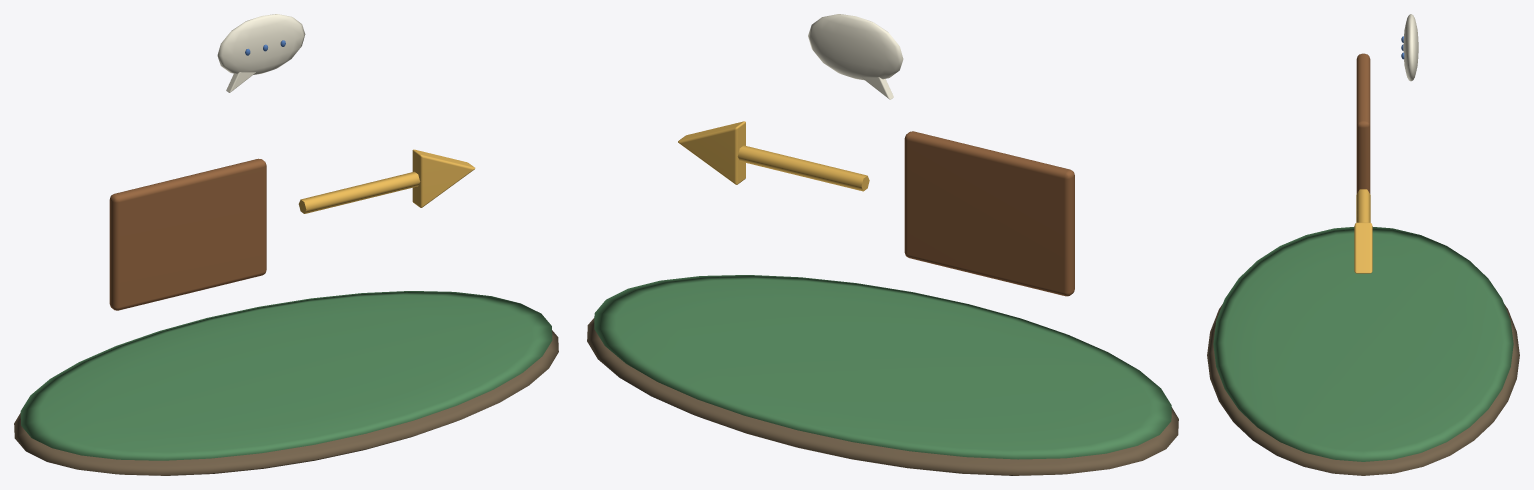
The model's file is complete-third-display-reaching.glb.
3 renders of one model, left to right at view 1: azimuth 30°, elevation 25°; view 2: azimuth 150°, elevation 25°; view 3: azimuth 270°, elevation 25°, orthographic. The views are drawn at different scales.
Visible parts, largest first — view 1: complete-third-display-reaching_surface_01, complete-third-display-reaching_surface_02, complete-third-display-reaching_surface_00, complete-third-display-reaching_surface_04, complete-third-display-reaching_surface_03; view 2: complete-third-display-reaching_surface_01, complete-third-display-reaching_surface_02, complete-third-display-reaching_surface_00, complete-third-display-reaching_surface_04, complete-third-display-reaching_surface_03; view 3: complete-third-display-reaching_surface_01, complete-third-display-reaching_surface_00, complete-third-display-reaching_surface_02, complete-third-display-reaching_surface_03, complete-third-display-reaching_surface_04.
Part boxes in pixels (box(x1,y1,x2,y2)): complete-third-display-reaching_surface_01: box(20, 291, 552, 460); complete-third-display-reaching_surface_02: box(109, 158, 266, 310); complete-third-display-reaching_surface_00: box(14, 330, 558, 475); complete-third-display-reaching_surface_04: box(217, 14, 305, 92); complete-third-display-reaching_surface_03: box(298, 149, 475, 213); complete-third-display-reaching_surface_01: box(594, 275, 1171, 459); complete-third-display-reaching_surface_02: box(904, 131, 1074, 296); complete-third-display-reaching_surface_00: box(587, 318, 1178, 475); complete-third-display-reaching_surface_04: box(808, 14, 903, 99); complete-third-display-reaching_surface_03: box(678, 121, 869, 191); complete-third-display-reaching_surface_01: box(1213, 227, 1513, 461); complete-third-display-reaching_surface_00: box(1207, 304, 1519, 475); complete-third-display-reaching_surface_02: box(1356, 53, 1370, 193); complete-third-display-reaching_surface_03: box(1354, 189, 1372, 273); complete-third-display-reaching_surface_04: box(1403, 14, 1418, 81).
Bounding box in the file's own units: 4.56 × 3.08 × 2.5.
